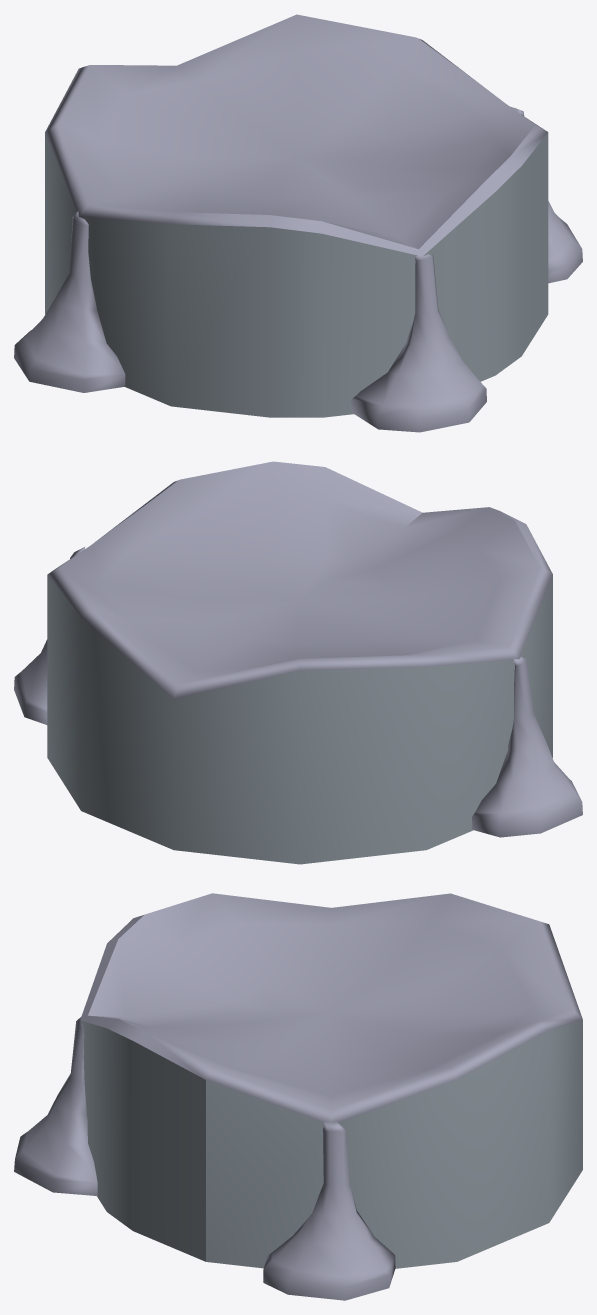
File: Candle3.fbx
3 renders of one model, top to bottom at view 1: azimuth 30°, elevation 25°; view 2: azimuth 150°, elevation 25°; view 3: azimuth 270°, elevation 25°, orthographic.
Parts seen in each view (by area): view 1: Candle3; view 2: Candle3; view 3: Candle3.
Part boxes in pixels (x1,y1,x2,y2): Candle3: (14, 14, 582, 432); Candle3: (14, 461, 582, 864); Candle3: (14, 893, 582, 1300).
Bounding box in the file's own units: 2.29 × 0.7895 × 2.05.
